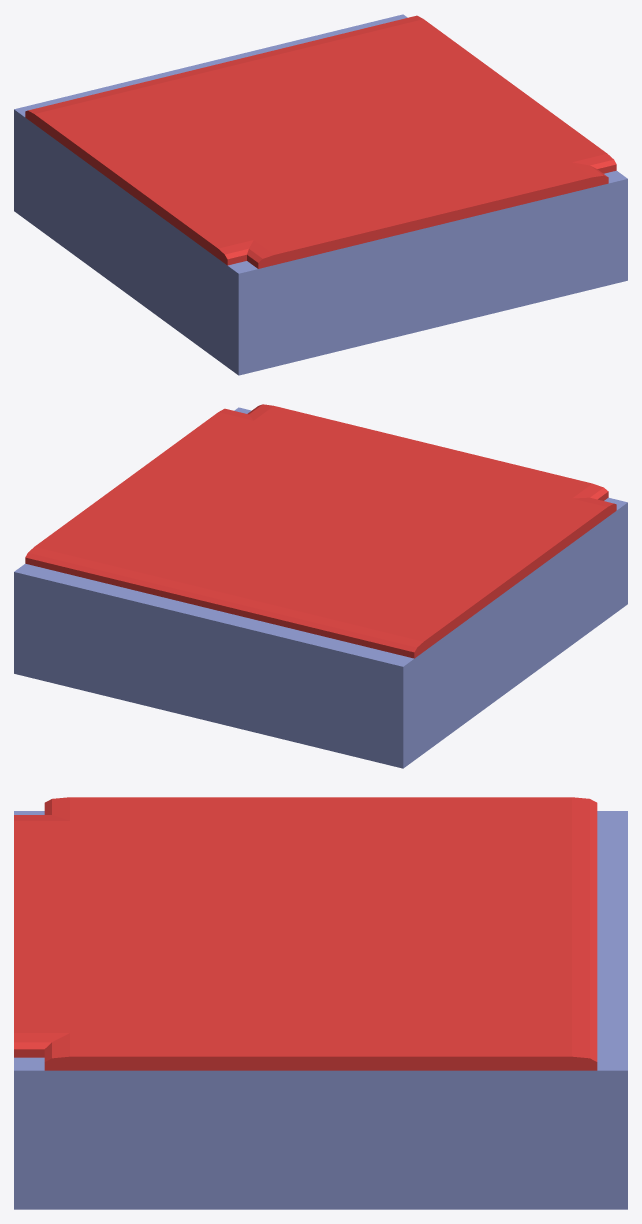
File: tilePathT.fbx
The picture shows the model from 3 angles, top to bottom: view 1: azimuth 30°, elevation 25°; view 2: azimuth 150°, elevation 25°; view 3: azimuth 270°, elevation 25°; orthographic projection. The views are drawn at different scales.
Parts seen in each view (by area): view 1: tilePathT; view 2: tilePathT; view 3: tilePathT.
Boxes of the visible parts, box(x1,y1,x2,y2) form: tilePathT: box(14, 14, 627, 375); tilePathT: box(14, 404, 627, 768); tilePathT: box(14, 797, 627, 1209).
Size of the model in its own units: 400 by 110 by 400.
